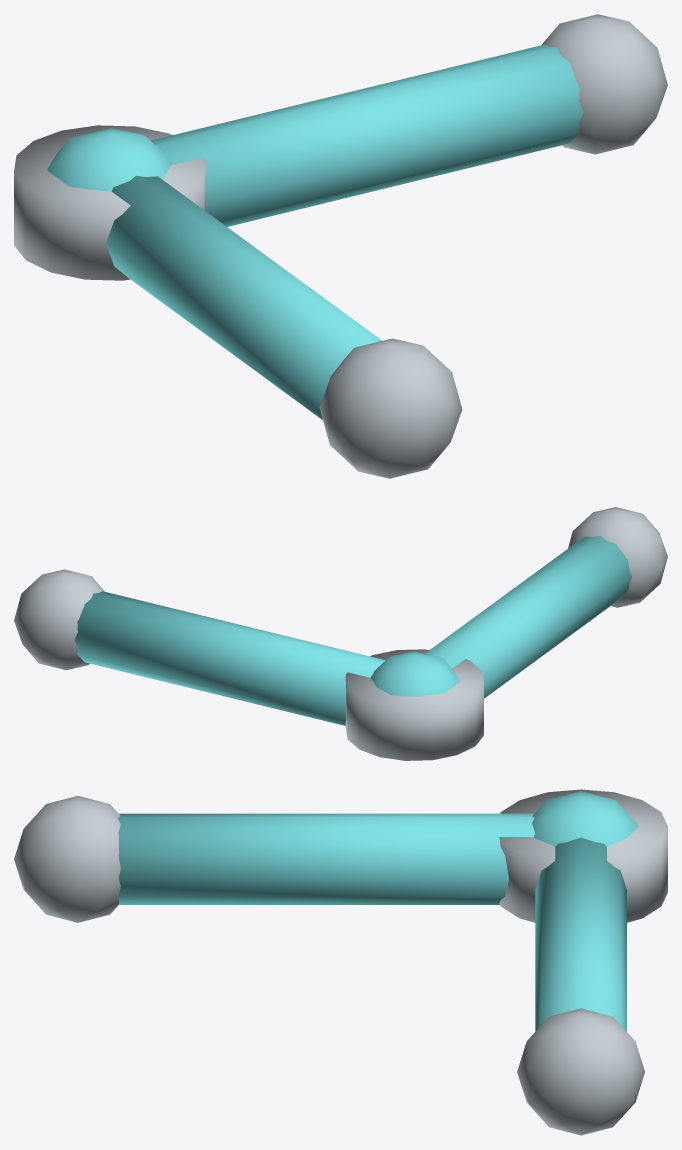
The model's file is conduit_elbow_standard.glb.
3 views of the same model, one above another, from view 1: azimuth 30°, elevation 25°; view 2: azimuth 150°, elevation 25°; view 3: azimuth 270°, elevation 25° (orthographic). The views are drawn at different scales.
Parts seen in each view (by area): view 1: Conduit_cyan, Coupler_steel, JunctionCap_steel, Junction_cyan; view 2: Conduit_cyan, Coupler_steel, JunctionCap_steel, Junction_cyan; view 3: Conduit_cyan, Coupler_steel, JunctionCap_steel, Junction_cyan.
Boxes of the visible parts, x1=… form: Conduit_cyan: x1=106, y1=44, x2=583, y2=419; Coupler_steel: x1=319, y1=14, x2=667, y2=478; JunctionCap_steel: x1=14, y1=125, x2=206, y2=280; Junction_cyan: x1=47, y1=128, x2=171, y2=191; Conduit_cyan: x1=74, y1=536, x2=631, y2=725; Coupler_steel: x1=14, y1=507, x2=667, y2=670; JunctionCap_steel: x1=345, y1=649, x2=483, y2=760; Junction_cyan: x1=371, y1=651, x2=459, y2=696; Conduit_cyan: x1=118, y1=813, x2=626, y2=1031; Coupler_steel: x1=14, y1=796, x2=644, y2=1135; JunctionCap_steel: x1=499, y1=789, x2=667, y2=922; Junction_cyan: x1=532, y1=791, x2=638, y2=846.
Size of the model in its own units: 1.43 by 0.3 by 1.43.
